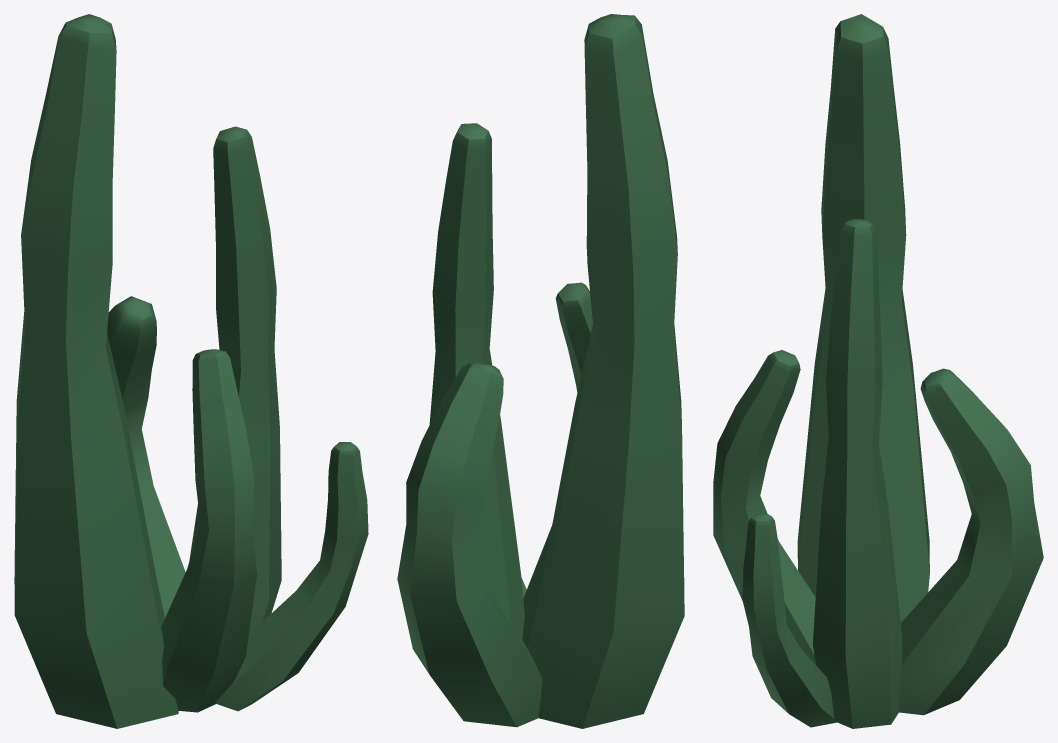
File: a_z1_cactus_01.fbx
3 renders of one model, left to right at view 1: azimuth 30°, elevation 25°; view 2: azimuth 150°, elevation 25°; view 3: azimuth 270°, elevation 25°, orthographic. The views are drawn at different scales.
Parts seen in each view (by area): view 1: a_z1_Cactus1; view 2: a_z1_Cactus1; view 3: a_z1_Cactus1.
Boxes of the visible parts, box(x1,y1,x2,y2) form: a_z1_Cactus1: box(14, 14, 368, 728); a_z1_Cactus1: box(397, 14, 684, 728); a_z1_Cactus1: box(713, 14, 1043, 728).
Size of the model in its own units: 161 by 366 by 170.
